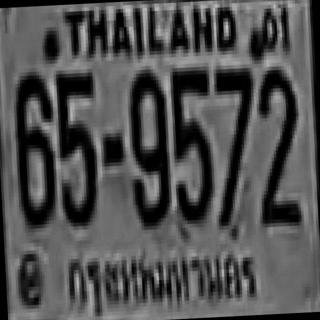N02: (254, 64, 301, 215), (254, 64, 300, 204)
N05: (167, 65, 214, 223), (54, 69, 100, 223)
N06: (10, 68, 57, 226)
N07: (211, 62, 258, 224)
N09: (124, 67, 171, 225)
P04: (62, 238, 262, 320)
